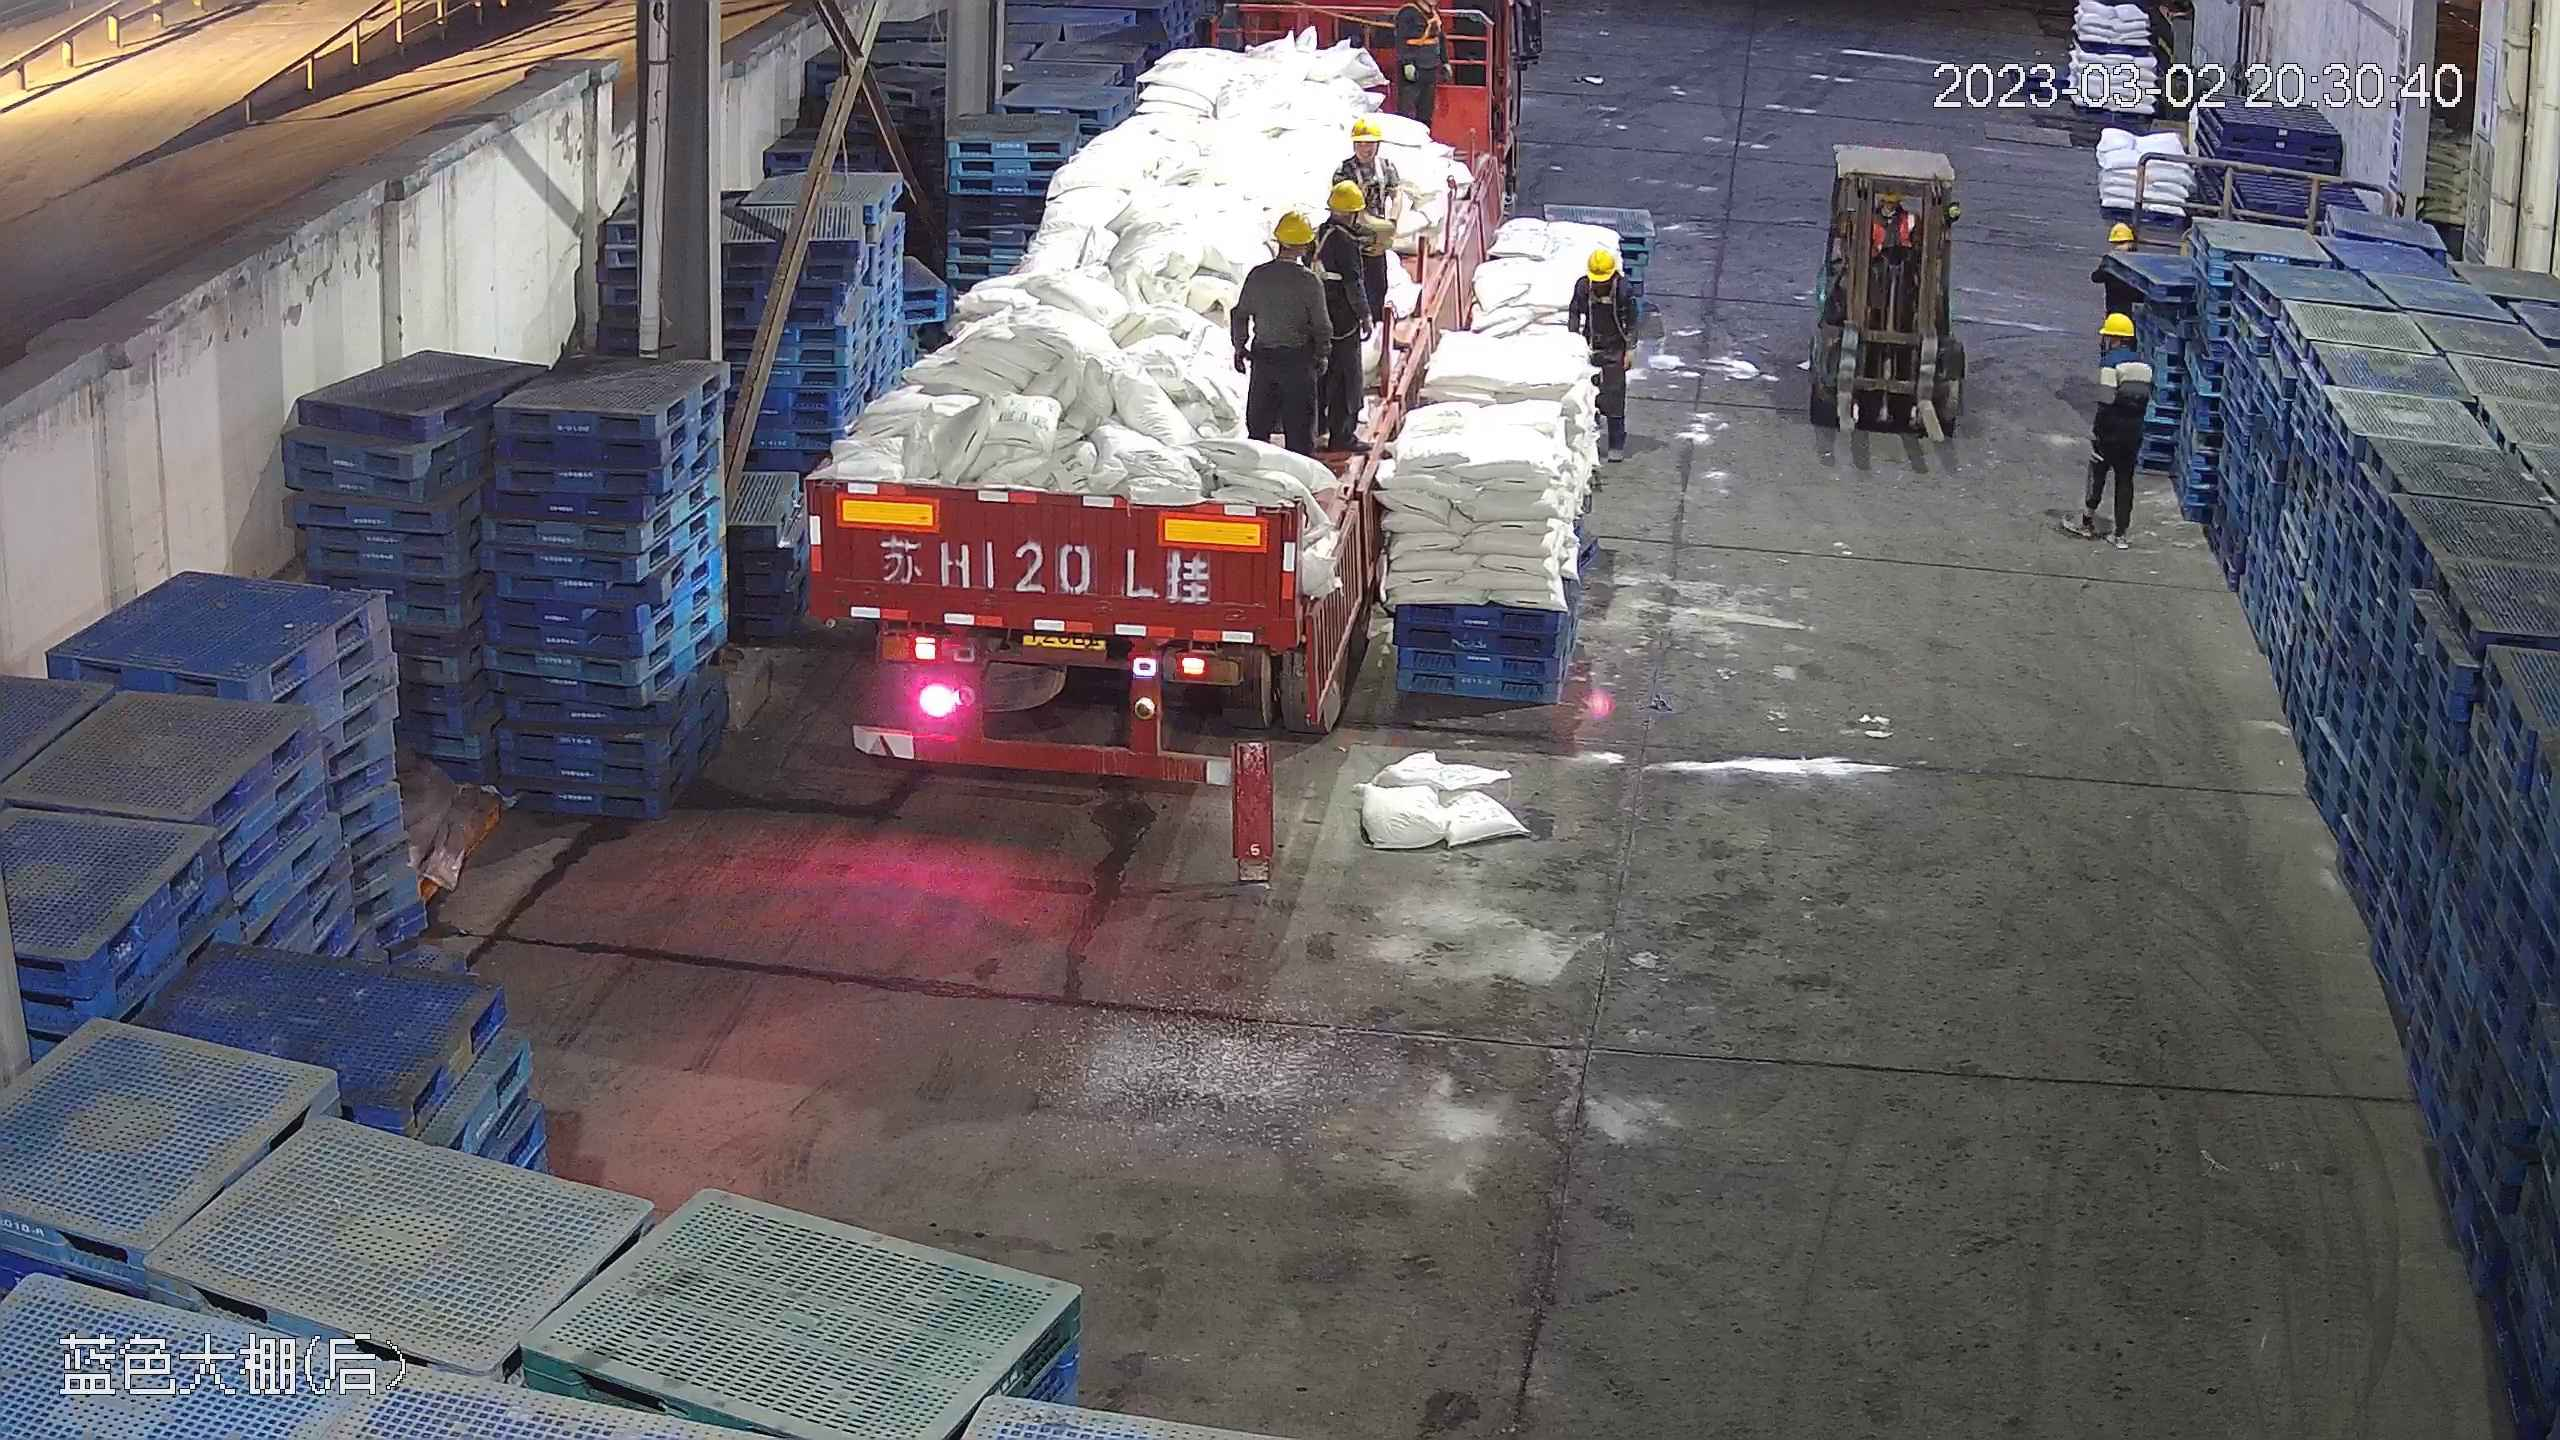belt: (1320, 218, 1379, 270), (1582, 270, 1620, 329), (1400, 2, 1445, 47), (1350, 157, 1389, 202)
head: (1244, 208, 1331, 292), (1314, 192, 1377, 265), (1329, 114, 1391, 185), (2091, 309, 2149, 379), (1571, 248, 1633, 312)
helmet: (1271, 208, 1315, 244), (1328, 175, 1368, 209), (1582, 247, 1618, 277), (2099, 311, 2136, 340), (1346, 115, 1384, 141), (2109, 222, 2135, 244)
people: (1230, 207, 1339, 451), (2068, 311, 2150, 545), (1565, 246, 1639, 464), (1395, 5, 1453, 127)
truck: (790, 13, 1444, 781)
